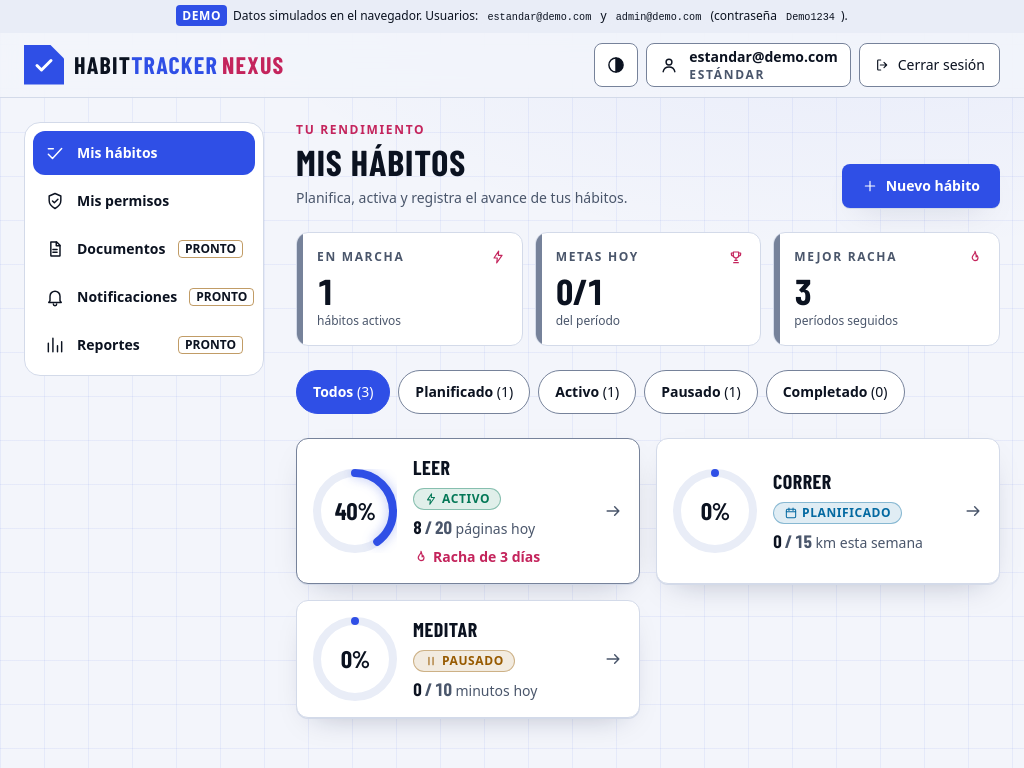
flujos de cuenta › cerrar sesión vuelve al login y revoca el token
This screenshot has width=1024, height=768.
Click the button "Cerrar sesión" at (929, 65), box [859,43,1000,87]
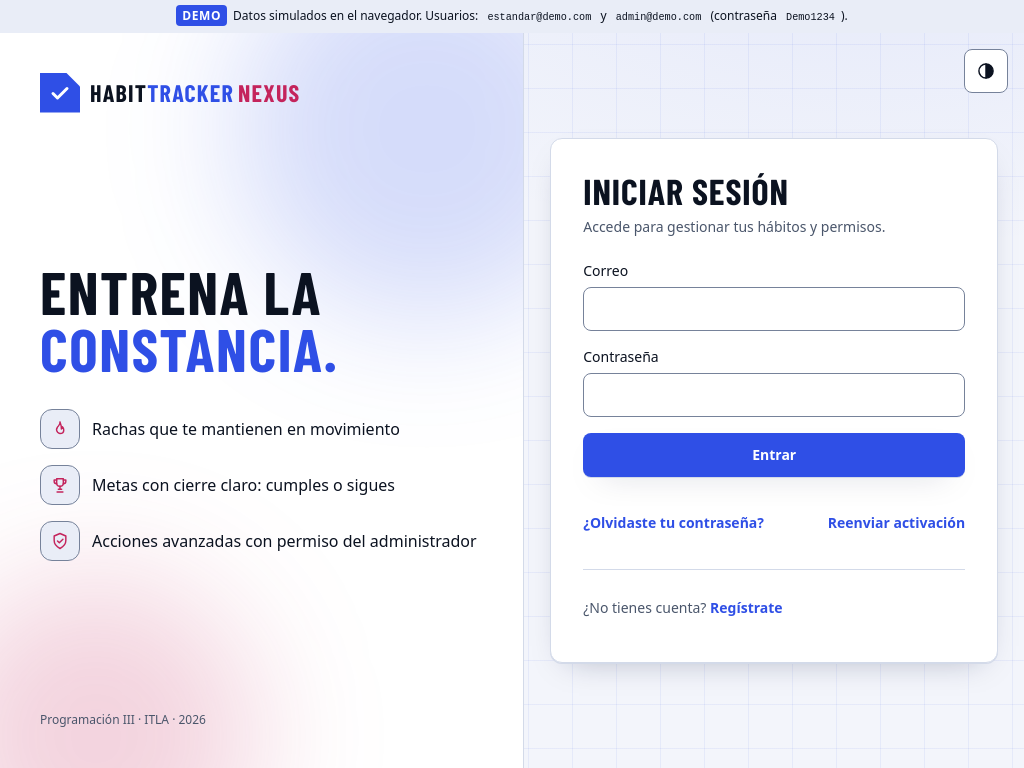
Now the heading "Iniciar sesión" is shown, box [583,169,789,212]
